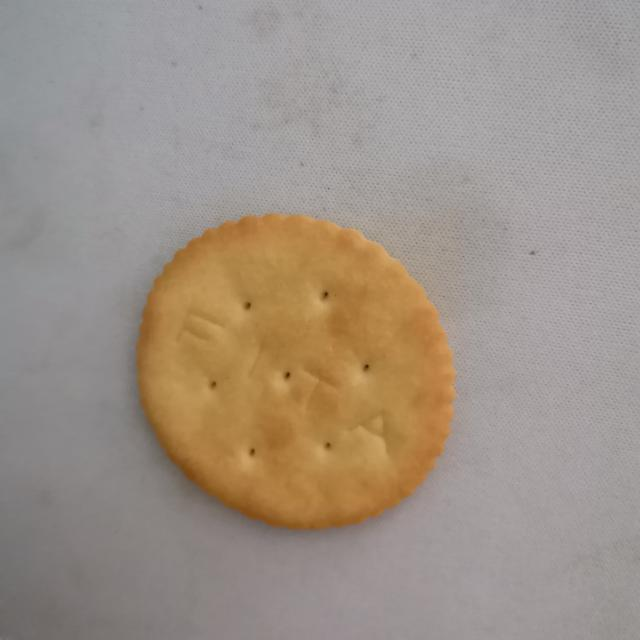Intact: (127, 206, 463, 545)
